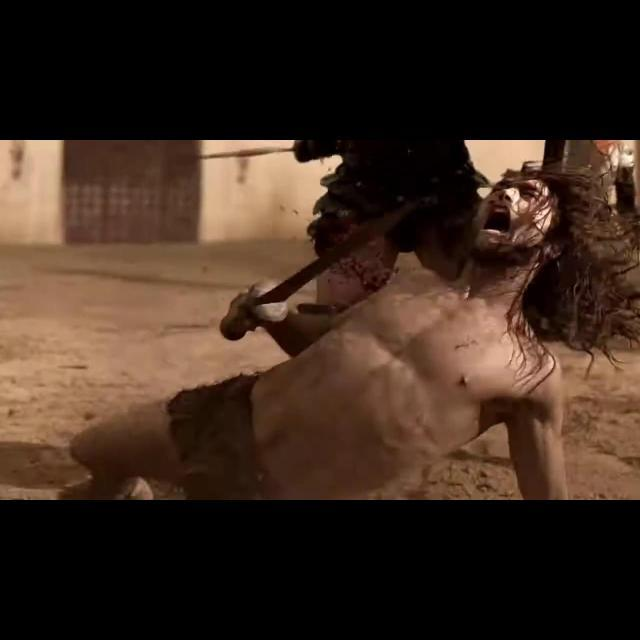blood: (331, 236, 393, 291), (308, 212, 357, 255)
